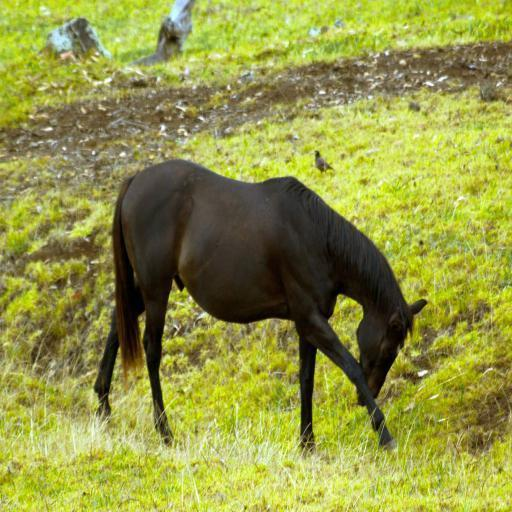horse: (92, 157, 430, 450)
